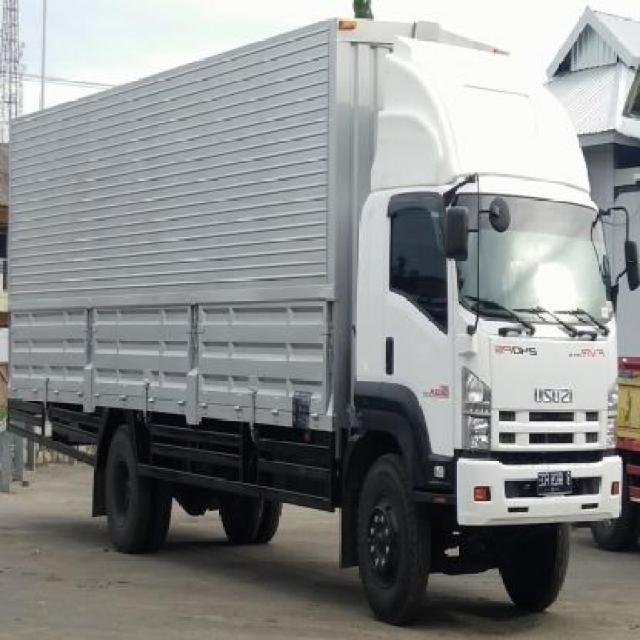truck: (1, 14, 632, 613)
